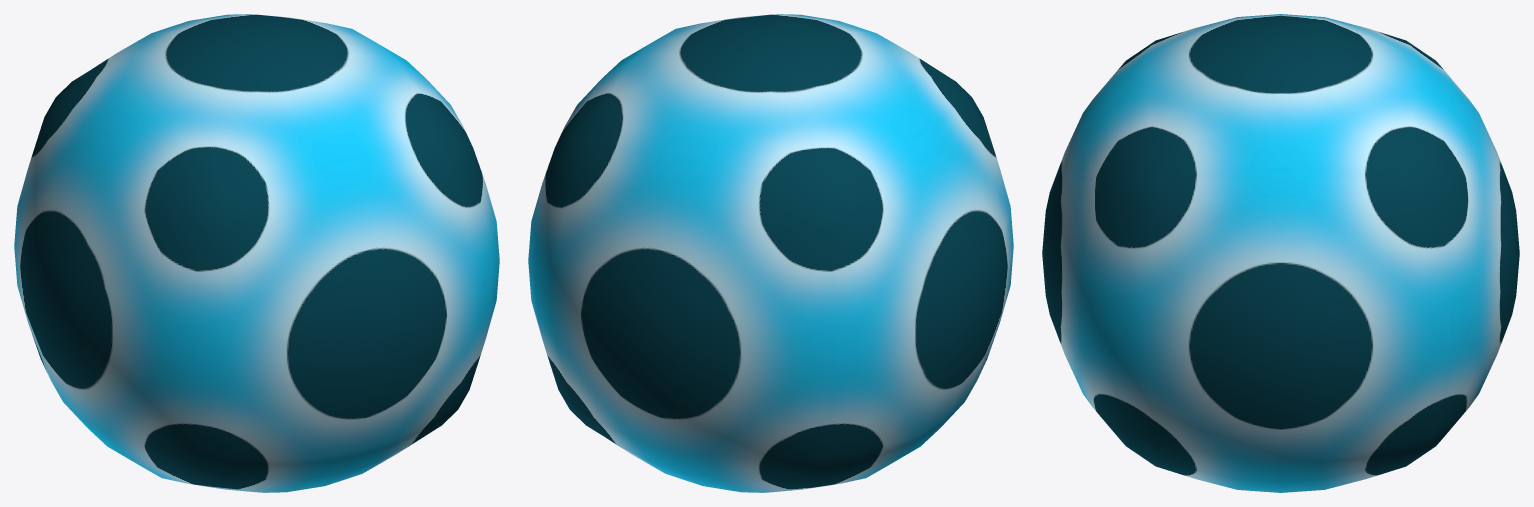
Rendered from orb.obj.
The picture shows the model from 3 angles, left to right: view 1: azimuth 30°, elevation 25°; view 2: azimuth 150°, elevation 25°; view 3: azimuth 270°, elevation 25°; orthographic projection.
Visible parts, largest first — view 1: Cube.080; view 2: Cube.080; view 3: Cube.080.
Part boxes in pixels (x1,y1,x2,y2): Cube.080: [14, 14, 499, 492]; Cube.080: [528, 14, 1013, 492]; Cube.080: [1042, 14, 1519, 492].
Bounding box in the file's own units: 25.52 × 25.52 × 25.52.
1 material, 1 textured.
